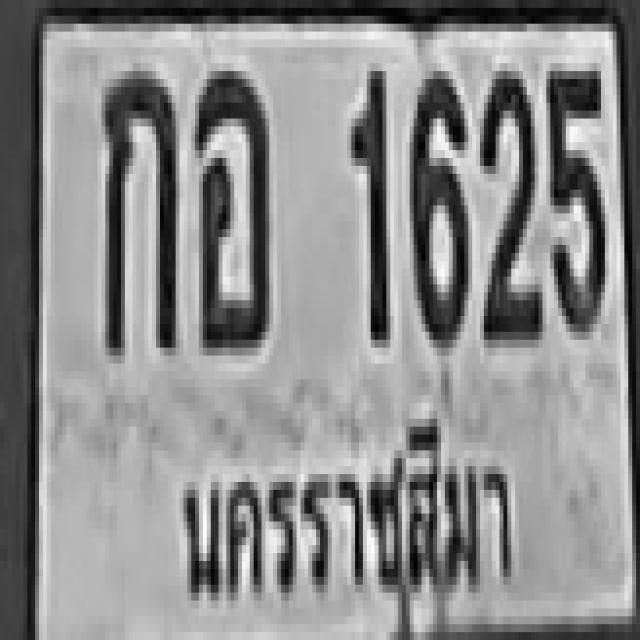1: (350, 63, 384, 340)
10GorGai: (100, 63, 174, 348)
2: (476, 67, 539, 336)
5: (542, 63, 601, 332)
52OrAng: (192, 63, 266, 348)
6: (406, 63, 464, 340)
NakhonRatchasima: (171, 422, 518, 622)
